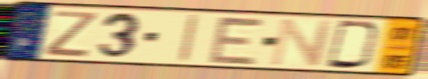3: (96, 10, 142, 61)
D: (324, 19, 384, 71)
E: (206, 14, 267, 67)
I: (176, 13, 201, 64)
N: (268, 17, 336, 67)
Z: (42, 9, 101, 59)
